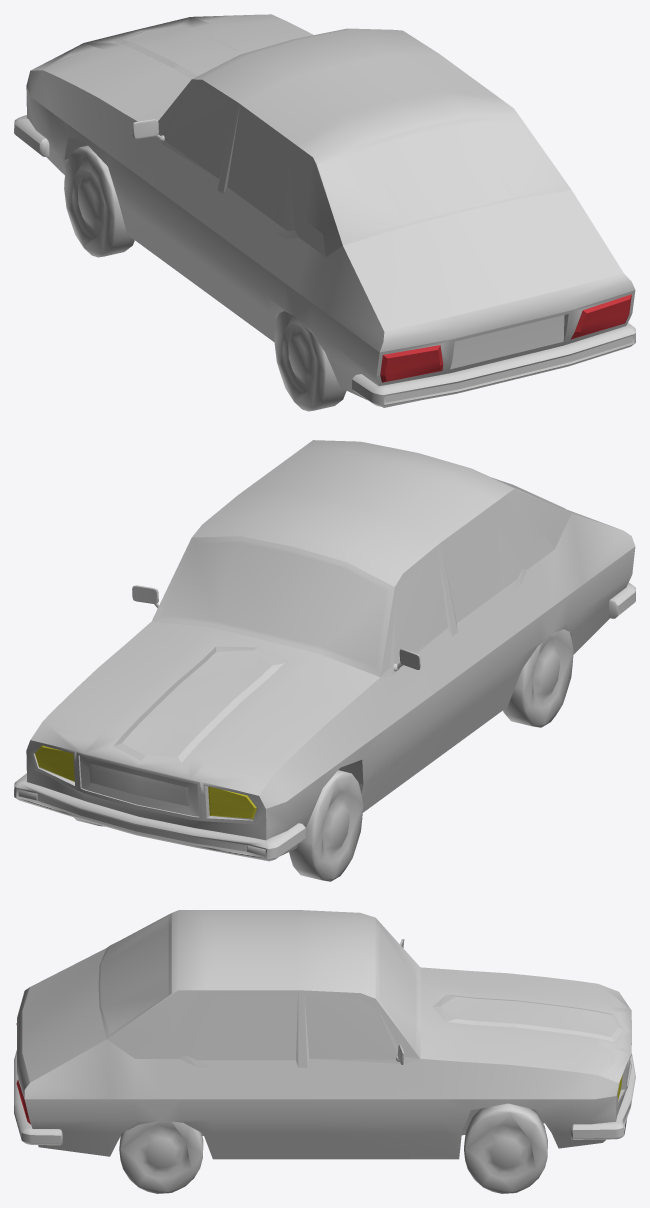
File: Car.fbx
3 renders of one model, top to bottom at view 1: azimuth 30°, elevation 25°; view 2: azimuth 150°, elevation 25°; view 3: azimuth 270°, elevation 25°, orthographic. The views are drawn at different scales.
Visible parts, largest first — view 1: car; view 2: car; view 3: car.
Boxes of the visible parts, x1,y1,x2,y2 form: car: (14,14,635,411); car: (14,440,635,881); car: (14,910,635,1193).
Size of the model in its own units: 172 by 145 by 393.
